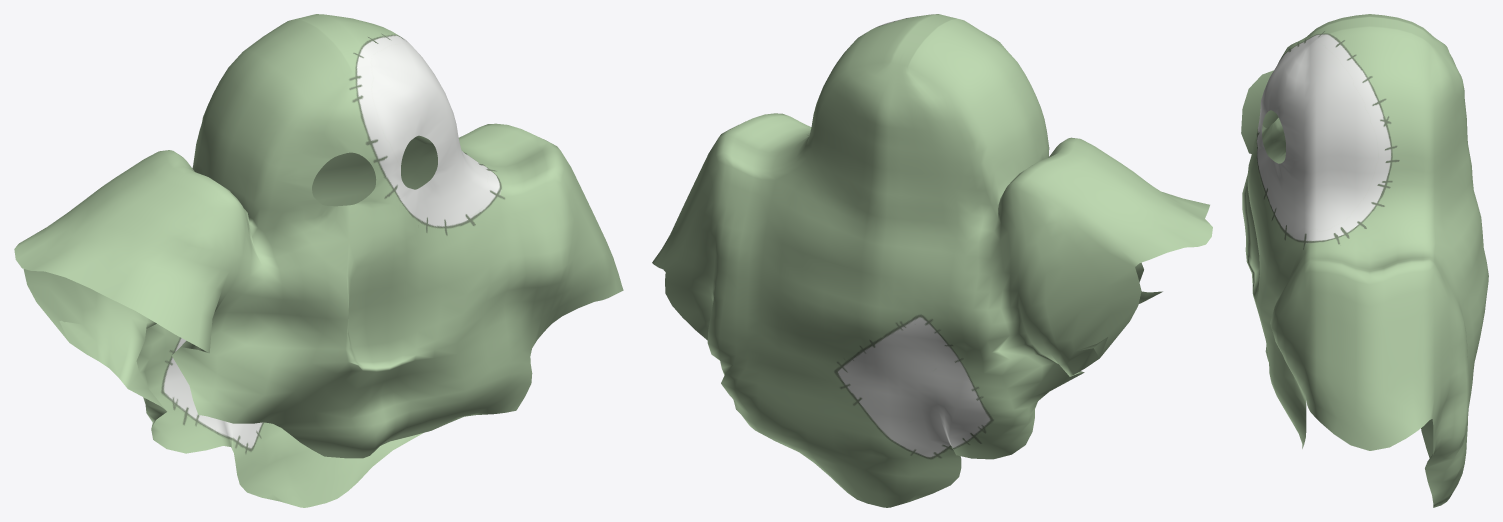
File: EnemyNormal.fbx
The picture shows the model from 3 angles, left to right: view 1: azimuth 30°, elevation 25°; view 2: azimuth 150°, elevation 25°; view 3: azimuth 270°, elevation 25°; orthographic projection. The views are drawn at different scales.
Parts seen in each view (by area): view 1: pCube6; view 2: pCube6; view 3: pCube6.
Part boxes in pixels (box(x1,y1,x2,y2)): pCube6: box(14, 14, 623, 507); pCube6: box(652, 14, 1212, 507); pCube6: box(1241, 14, 1488, 507).
Bounding box in the file's own units: 1.87 × 1.53 × 0.7376.
1 material, 1 textured.
